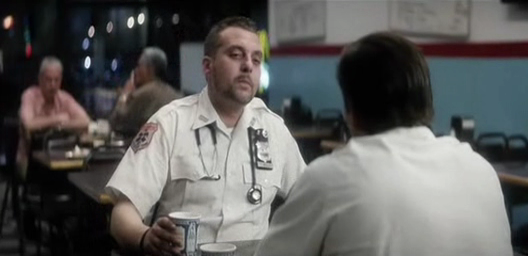face: (218, 38, 264, 102), (42, 74, 61, 97)
ms: (1, 1, 528, 256)
ots: (252, 31, 513, 256)
person: (104, 16, 307, 256), (16, 56, 90, 196), (107, 46, 183, 151)
